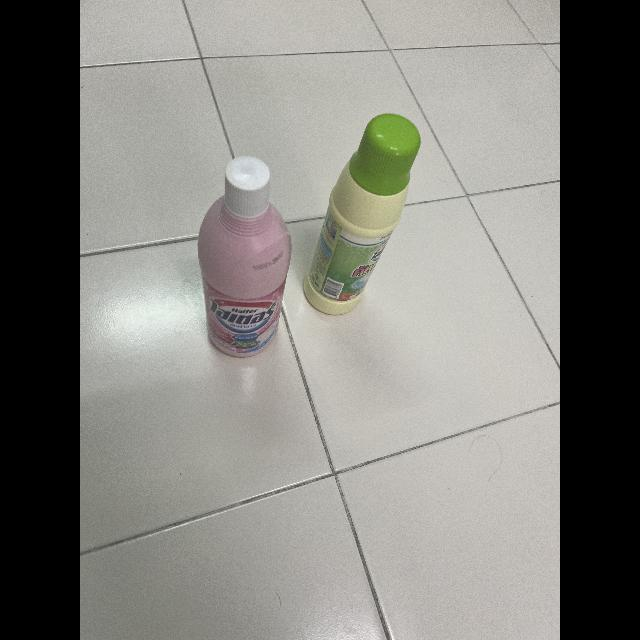chemical_plastic_bottle: (302, 110, 424, 310), (193, 154, 293, 362)
